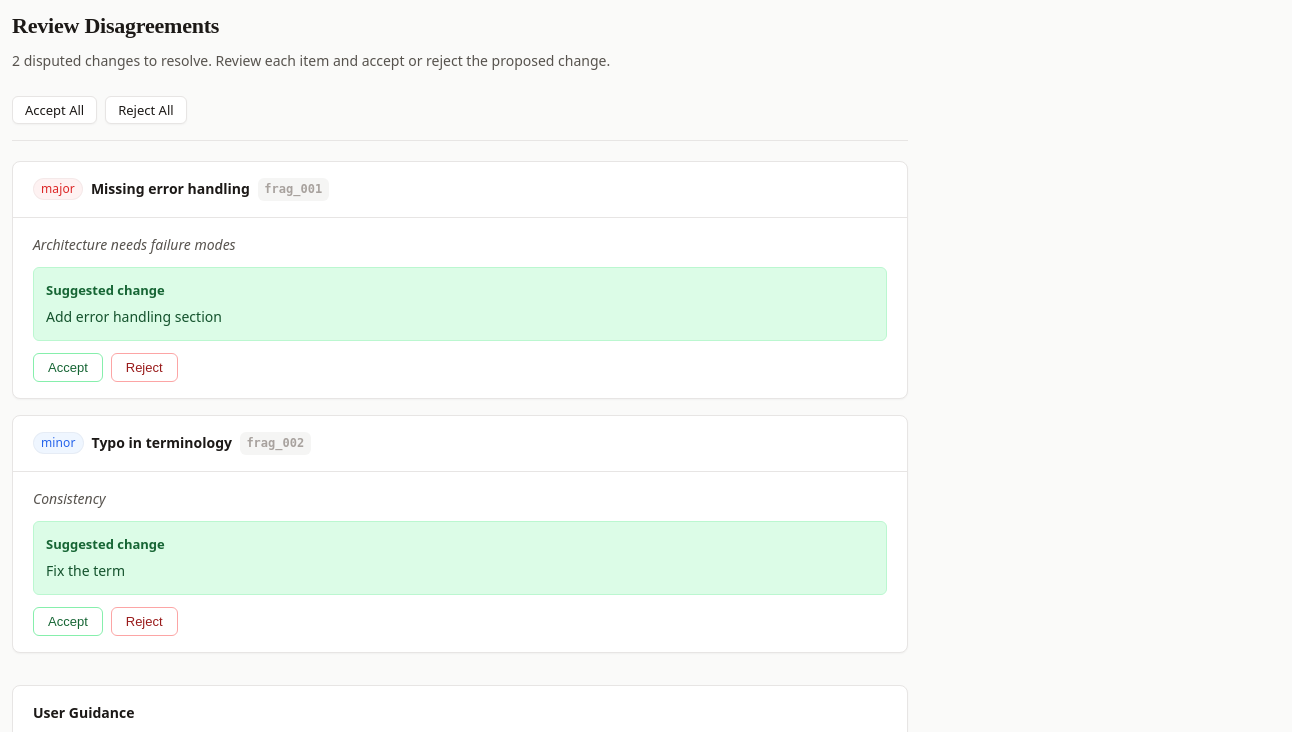
Test: ReviewStage › shows note textareas after decisions
The width and height of the screenshot is (1292, 732).
Click the button "Accept" below "Add error handling section" at (68, 367), box x1=33 y1=353 x2=103 y2=382
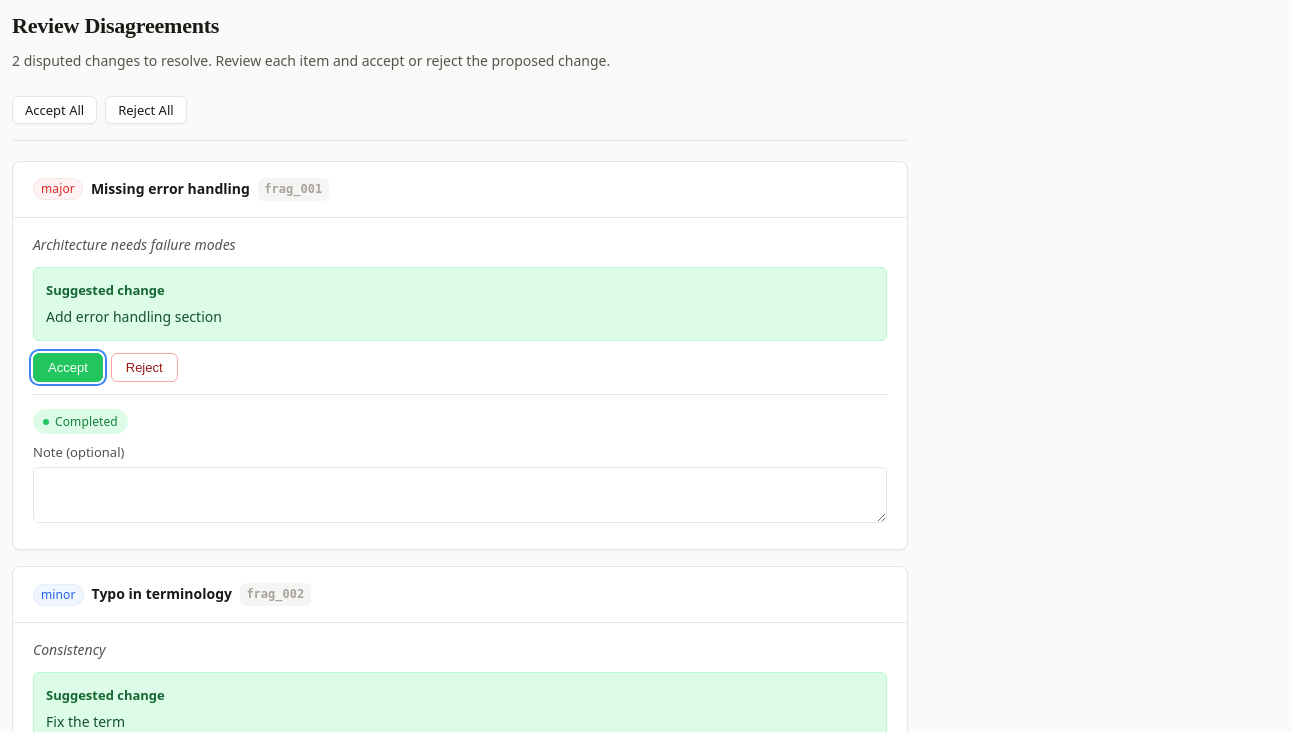
Result: the text box named "Note for Missing error handling" is shown at x1=33 y1=467 x2=887 y2=523
